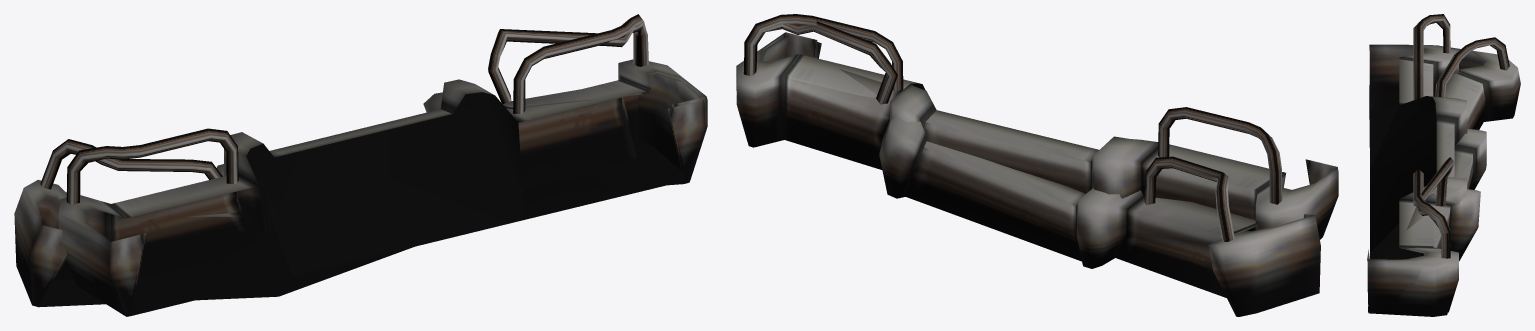
File: fbmp_lr_rem2.glb
3 views of the same model, side by side, from view 1: azimuth 30°, elevation 25°; view 2: azimuth 150°, elevation 25°; view 3: azimuth 270°, elevation 25° (orthographic). The views are drawn at different scales.
Parts seen in each view (by area): view 1: fbmp_lr_rem2, fbmp_lr_rem2_dam; view 2: fbmp_lr_rem2_dam, fbmp_lr_rem2; view 3: fbmp_lr_rem2, fbmp_lr_rem2_dam.
Boxes of the visible parts, box(x1,y1,x2,y2) form: fbmp_lr_rem2: box(58, 14, 707, 316); fbmp_lr_rem2_dam: box(14, 23, 705, 307); fbmp_lr_rem2_dam: box(736, 21, 1320, 316); fbmp_lr_rem2: box(736, 14, 1338, 239); fbmp_lr_rem2: box(1369, 14, 1467, 313); fbmp_lr_rem2_dam: box(1367, 37, 1520, 316).
Bounding box in the file's own units: 2.28 × 0.5975 × 0.6471.
Materials: 2 (2 with a texture image).
